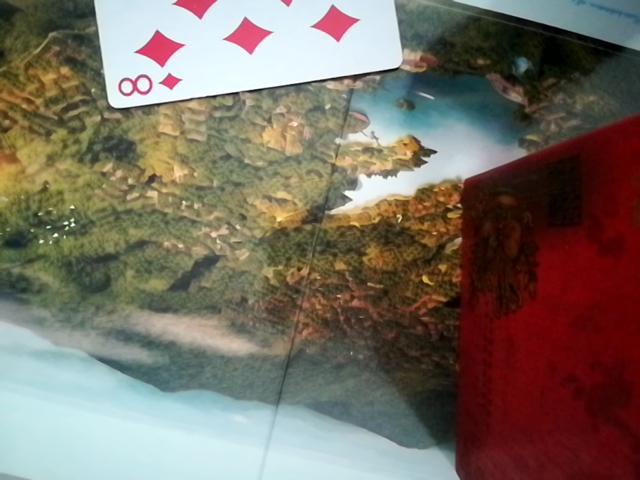fk 8: (81, 0, 405, 110)
